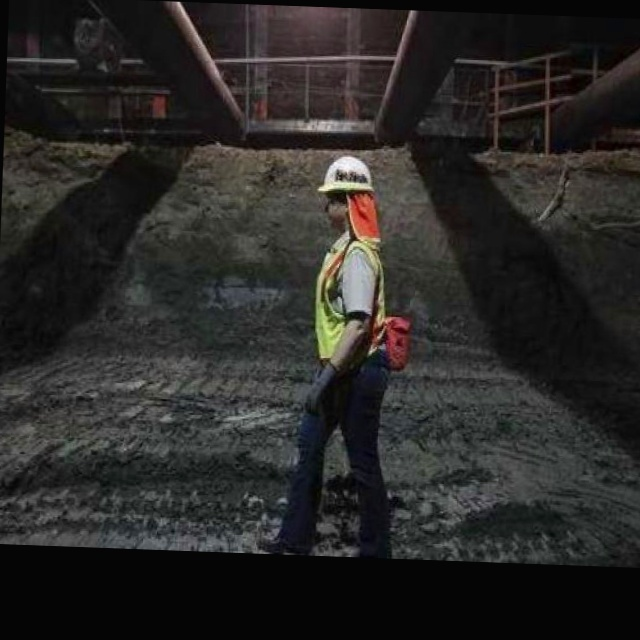Con_Casco: (320, 152, 377, 225)
Con_Chaleco: (307, 231, 390, 365)
